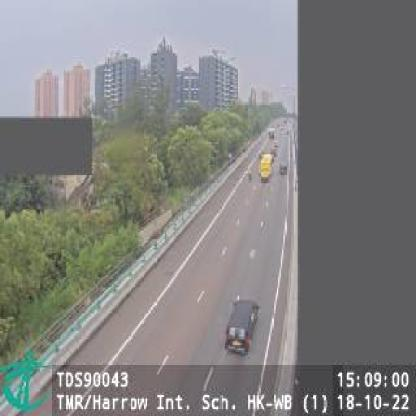Car: (224, 298, 260, 356), (278, 163, 287, 176)
Truck: (257, 151, 274, 182)
